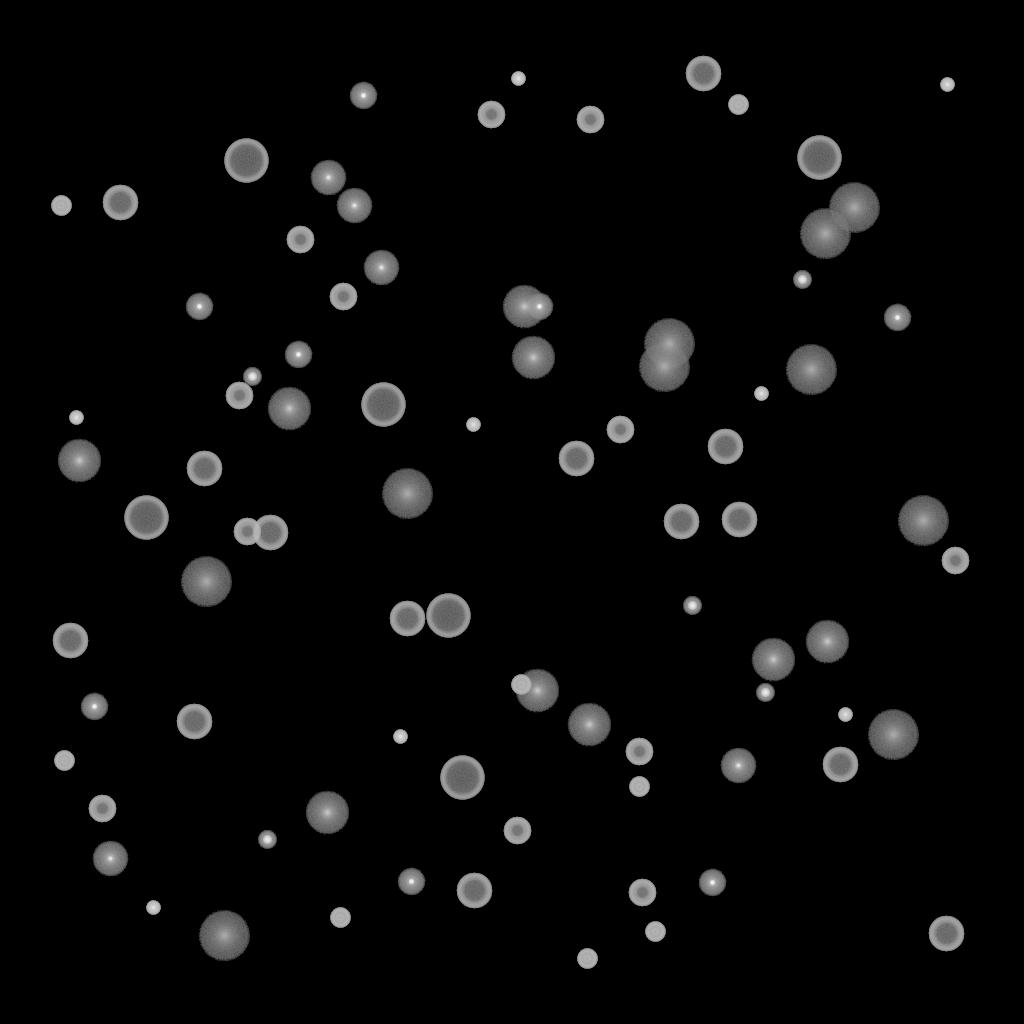depth:-10: (185, 293, 213, 321), (525, 293, 553, 321), (80, 693, 108, 721), (698, 869, 726, 897), (349, 82, 377, 110), (883, 304, 911, 332), (284, 341, 312, 369), (397, 868, 425, 896)
depth:-20: (683, 597, 701, 615), (793, 271, 811, 289), (756, 684, 774, 702), (258, 831, 276, 849), (243, 368, 261, 386)
depth:-30: (940, 78, 954, 92), (146, 901, 160, 915), (466, 418, 480, 432), (511, 72, 525, 86), (69, 411, 83, 425), (754, 387, 768, 401), (838, 708, 852, 722), (393, 730, 407, 744)
depth:-40: (728, 95, 748, 115), (577, 949, 597, 969), (645, 922, 665, 942), (330, 908, 350, 928), (54, 751, 74, 771), (511, 675, 531, 695), (629, 777, 649, 797), (51, 196, 71, 216)
depth:-50: (477, 101, 505, 129), (576, 106, 604, 134), (503, 817, 531, 845), (606, 416, 634, 444), (628, 879, 656, 907), (225, 382, 253, 410), (286, 226, 314, 254), (88, 795, 116, 823), (233, 518, 261, 546), (329, 283, 357, 311), (941, 547, 969, 575), (625, 738, 653, 766)
depth:-60: (721, 502, 757, 538), (928, 916, 964, 952), (102, 185, 138, 221), (176, 704, 212, 740), (186, 451, 222, 487), (389, 601, 425, 637), (822, 747, 858, 783), (663, 504, 699, 540), (52, 623, 88, 659), (707, 429, 743, 465), (456, 873, 492, 909), (685, 56, 721, 92), (252, 515, 288, 551), (558, 441, 594, 477)
depth:-70: (797, 136, 841, 180), (224, 139, 268, 183), (361, 383, 405, 427), (426, 594, 470, 638), (124, 496, 168, 540), (440, 756, 484, 800)
depth:0: (92, 841, 128, 877), (363, 250, 399, 286), (310, 160, 346, 196), (720, 748, 756, 784), (336, 188, 372, 224)
depth:10: (567, 703, 611, 747), (502, 285, 546, 329), (305, 791, 349, 835), (805, 620, 849, 664), (751, 638, 795, 682), (57, 439, 101, 483), (515, 669, 559, 713), (511, 336, 555, 380), (267, 387, 311, 431)
depth:20: (638, 342, 690, 392), (643, 319, 695, 369), (799, 209, 851, 259), (867, 710, 919, 760), (198, 911, 250, 961), (897, 496, 949, 546), (785, 345, 837, 395), (828, 183, 880, 233), (381, 469, 433, 519), (180, 557, 232, 607)
